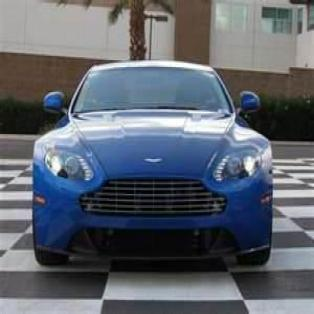Auto: (28, 56, 276, 275)
